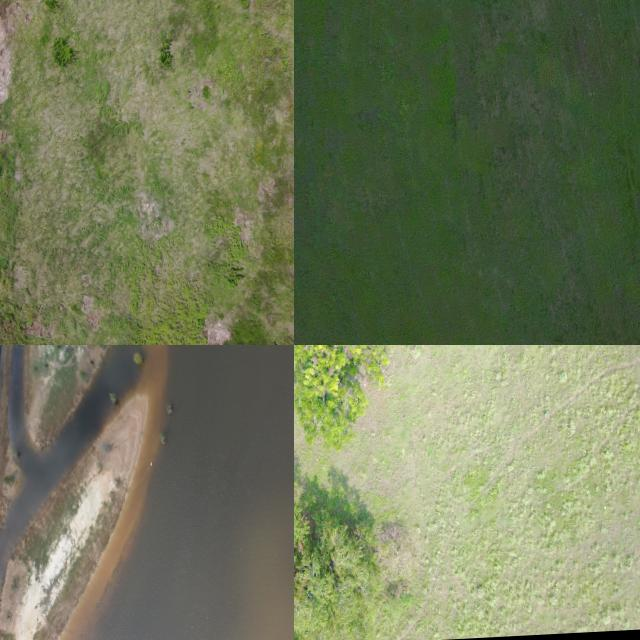fire: (79, 345, 294, 640), (0, 345, 142, 592)
